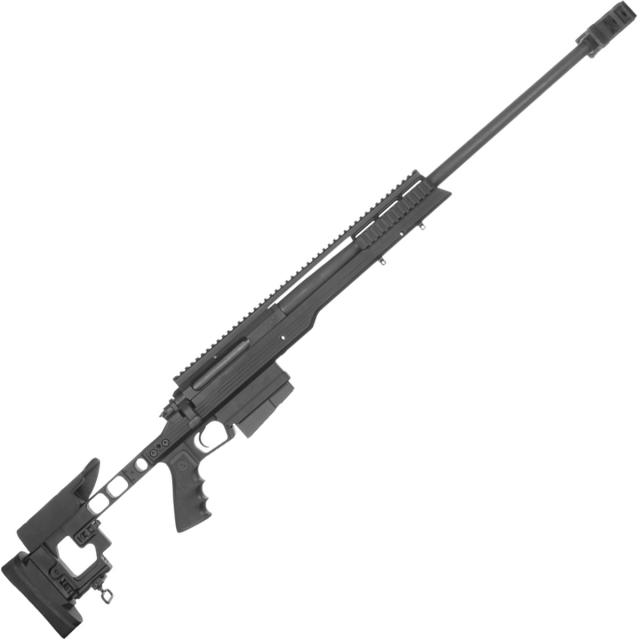Rifle: (1, 0, 640, 639)
